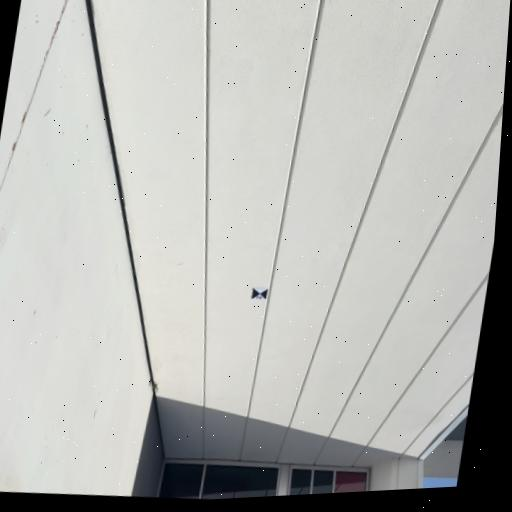target7: (251, 287, 268, 301)
